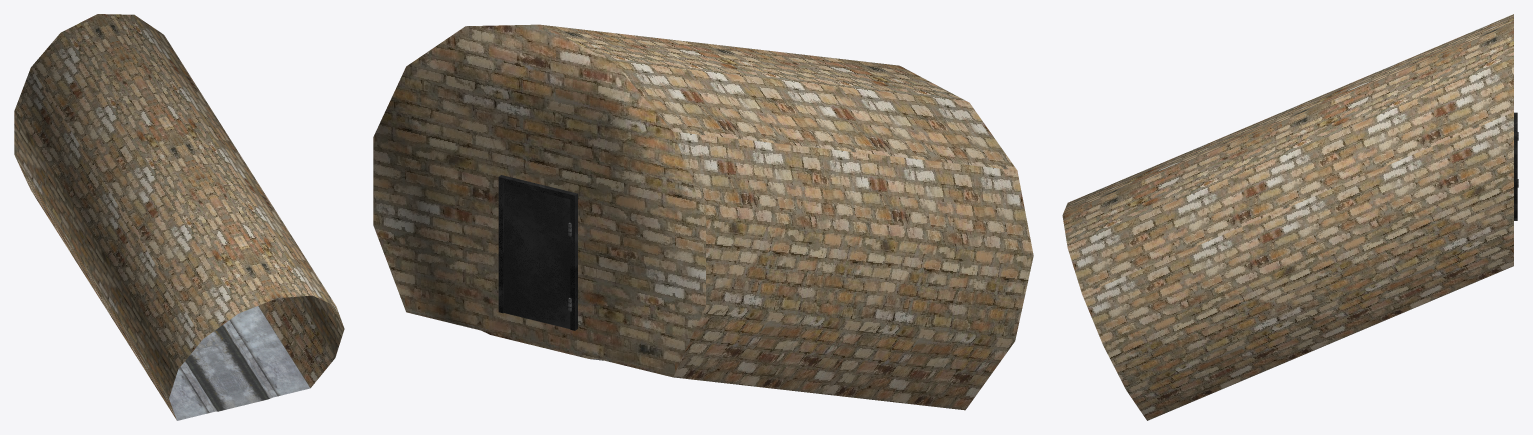
The model's file is exit_tunnel.glb.
3 renders of one model, left to right at view 1: azimuth 30°, elevation 25°; view 2: azimuth 150°, elevation 25°; view 3: azimuth 270°, elevation 25°, orthographic. The views are drawn at different scales.
Parts seen in each view (by area): view 1: TunnelExit; view 2: TunnelExit; view 3: TunnelExit.
Boxes of the visible parts, x1,y1,x2,y2 form: TunnelExit: [14, 14, 344, 420]; TunnelExit: [373, 24, 1033, 410]; TunnelExit: [1062, 14, 1518, 420].
Size of the model in its own units: 6.6 by 10.8 by 12.5.
Materials: 3 (3 with a texture image).
